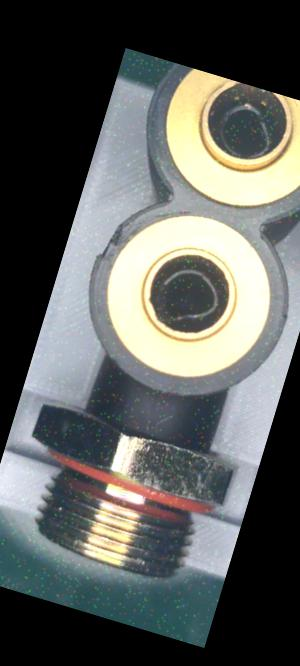bump: (94, 222, 124, 269)
joint line: (138, 391, 161, 434)
off-centered: (146, 251, 233, 340), (203, 89, 284, 170)
white mark: (152, 406, 174, 432)
